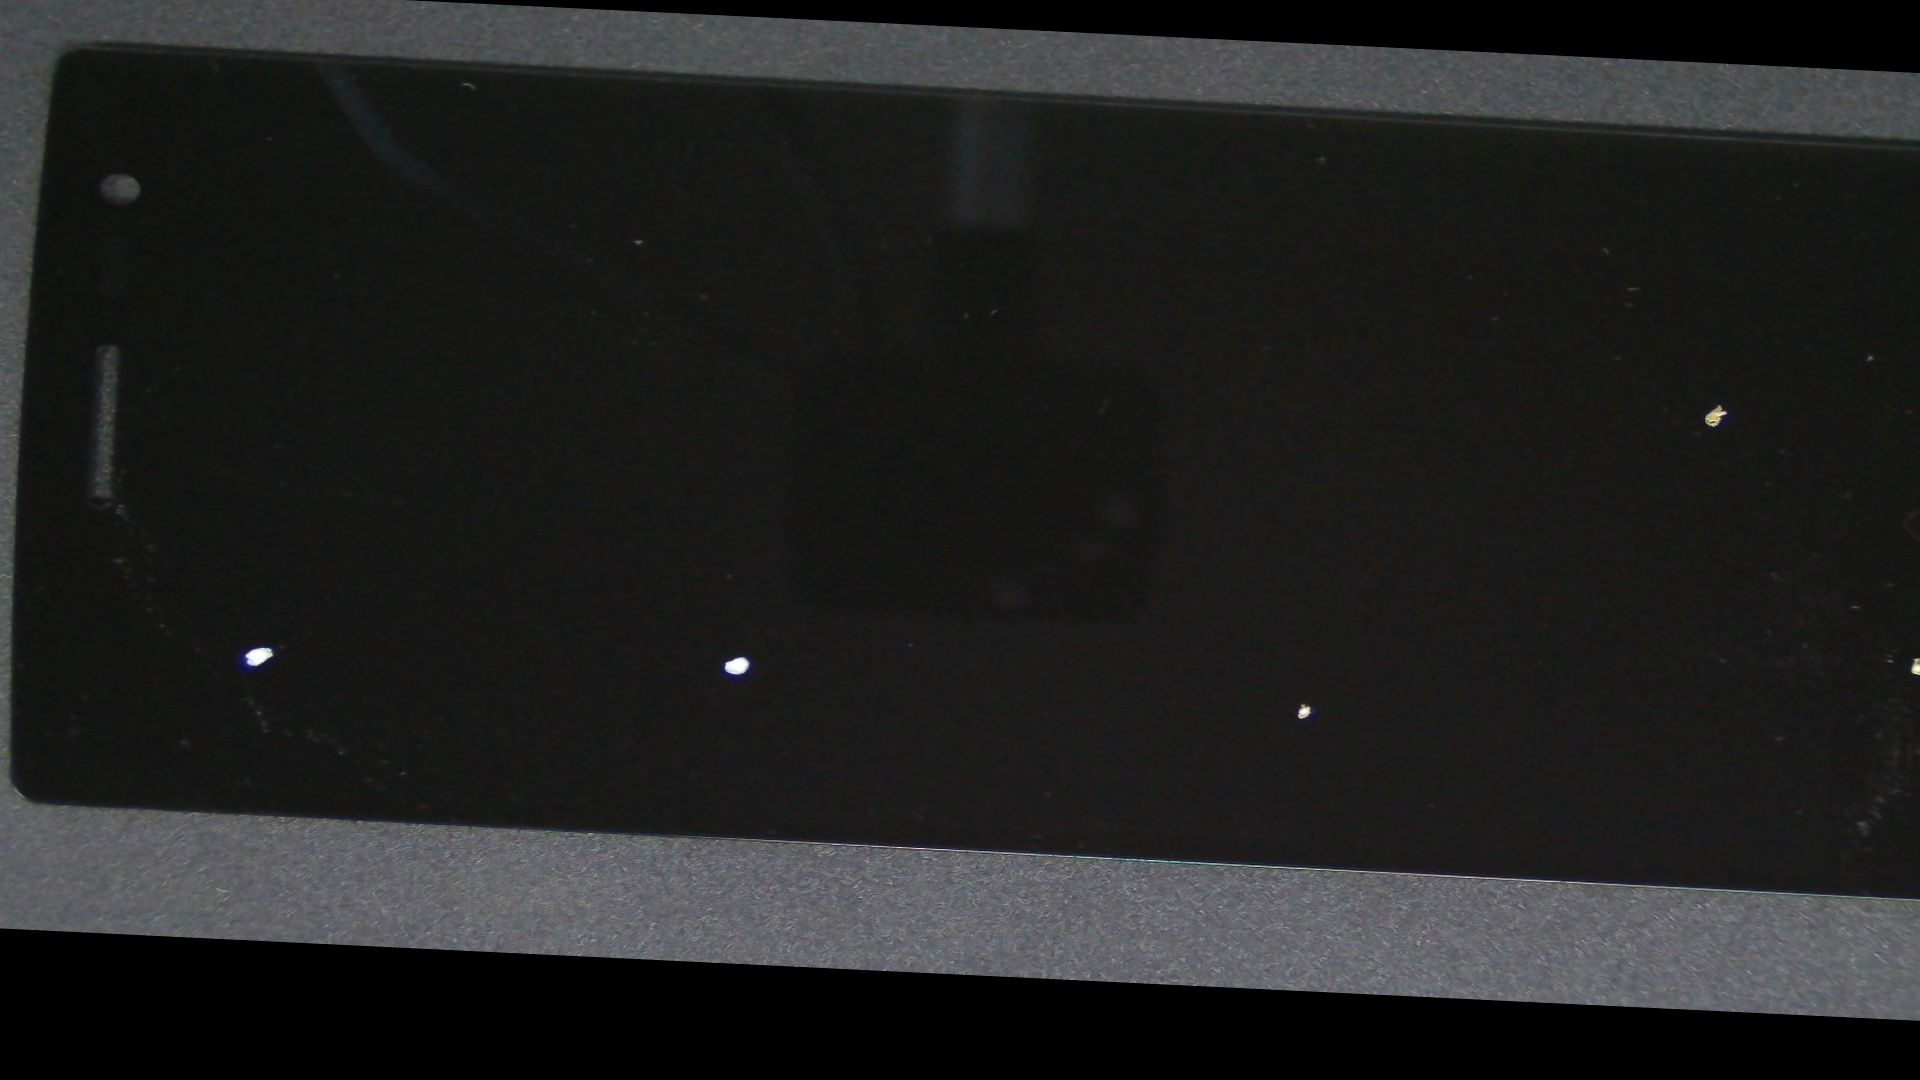oil: (601, 340, 1920, 1023), (911, 318, 1920, 960), (322, 316, 1163, 982), (823, 191, 1920, 596), (82, 313, 440, 948)
